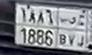1: (20, 6, 27, 44)
6: (45, 9, 53, 46)
8: (36, 10, 44, 46), (28, 9, 36, 44)
B: (59, 11, 67, 46)
J: (77, 14, 85, 47)
V: (69, 16, 76, 47)
